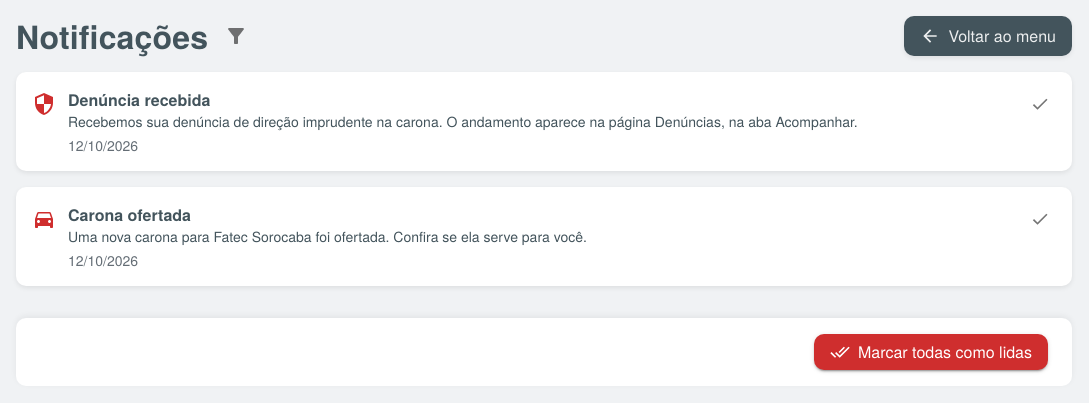
it: Notifications › should offer marking all as read only while something is unread
Click the button "Marcar todas como lidas" at (931, 352), box left=814, top=334, right=1048, bottom=370
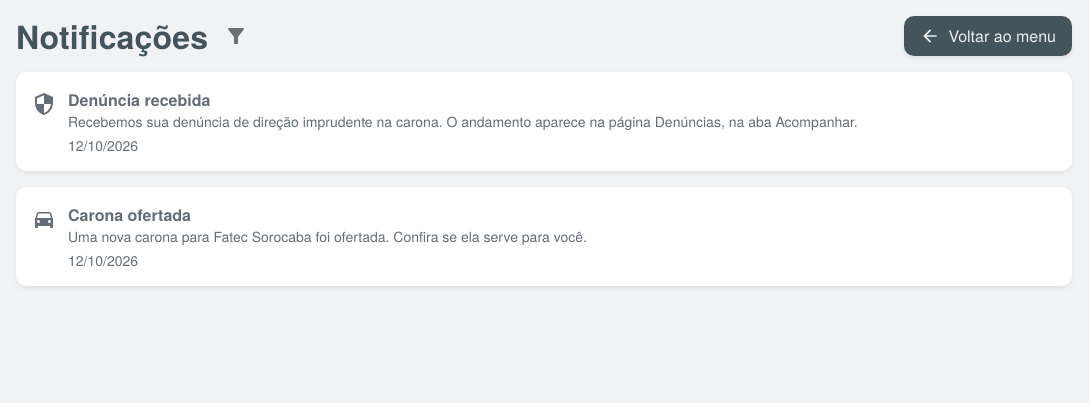
Check: the button "Marcar todas como lidas" is gone
